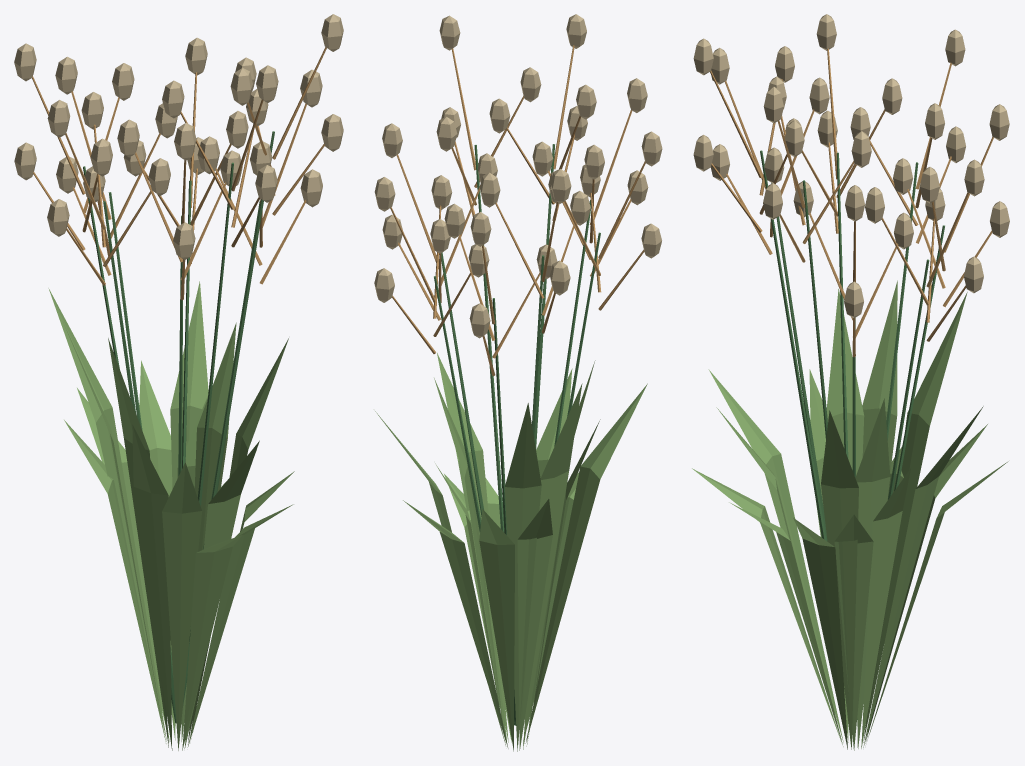
File: b08_switchgrass.glb
3 views of the same model, side by side, from view 1: azimuth 30°, elevation 25°; view 2: azimuth 150°, elevation 25°; view 3: azimuth 270°, elevation 25° (orthographic). The views are drawn at different scales.
Parts seen in each view (by area): view 1: b08_switchgrass; view 2: b08_switchgrass; view 3: b08_switchgrass.
Part boxes in pixels (x1=…): b08_switchgrass: x1=14, y1=14, x2=343, y2=750; b08_switchgrass: x1=374, y1=14, x2=662, y2=751; b08_switchgrass: x1=692, y1=14, x2=1009, y2=750.
Size of the model in its own units: 0.7236 by 1.78 by 0.72.
